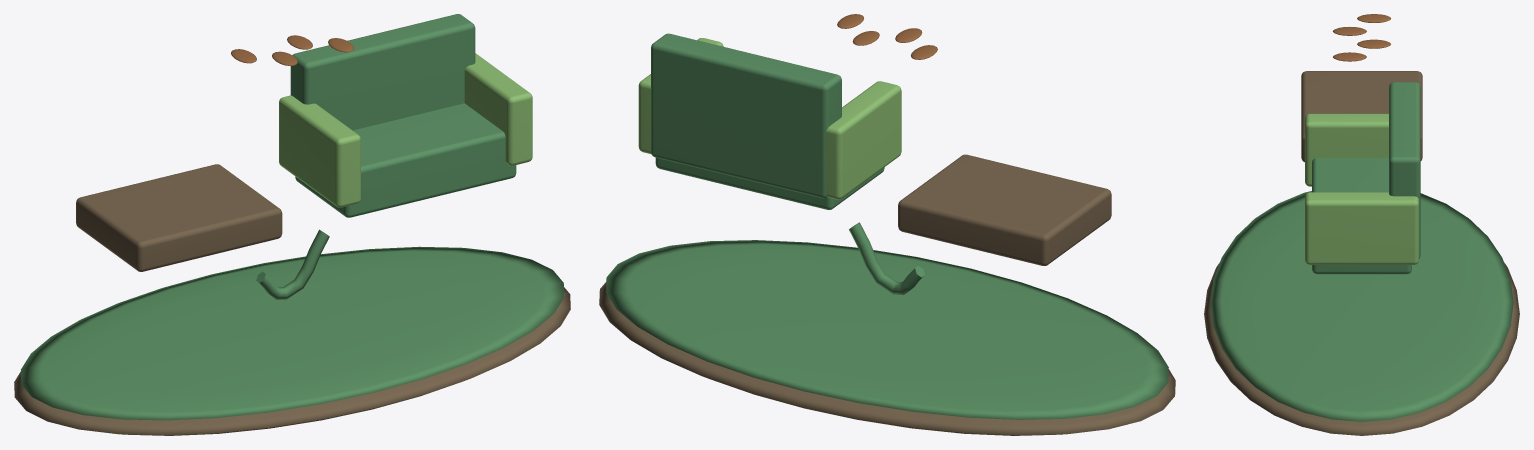
File: complete-first-manner-ground-bench.glb
3 views of the same model, side by side, from view 1: azimuth 30°, elevation 25°; view 2: azimuth 150°, elevation 25°; view 3: azimuth 270°, elevation 25° (orthographic). The views are drawn at different scales.
Parts seen in each view (by area): view 1: complete-first-manner-ground-bench_surface_01, complete-first-manner-ground-bench_surface_00, complete-first-manner-ground-bench_surface_02, complete-first-manner-ground-bench_surface_03; view 2: complete-first-manner-ground-bench_surface_01, complete-first-manner-ground-bench_surface_00, complete-first-manner-ground-bench_surface_02, complete-first-manner-ground-bench_surface_03; view 3: complete-first-manner-ground-bench_surface_01, complete-first-manner-ground-bench_surface_02, complete-first-manner-ground-bench_surface_00, complete-first-manner-ground-bench_surface_03.
Boxes of the visible parts, x1,y1,x2,y2 form: complete-first-manner-ground-bench_surface_01: (21,14,563,420); complete-first-manner-ground-bench_surface_00: (14,164,570,435); complete-first-manner-ground-bench_surface_02: (279,53,532,207); complete-first-manner-ground-bench_surface_03: (231,35,353,65); complete-first-manner-ground-bench_surface_01: (606,33,1168,419); complete-first-manner-ground-bench_surface_00: (599,154,1175,435); complete-first-manner-ground-bench_surface_02: (638,38,901,199); complete-first-manner-ground-bench_surface_03: (837,14,937,59); complete-first-manner-ground-bench_surface_01: (1210,82,1513,421); complete-first-manner-ground-bench_surface_02: (1305,113,1418,264); complete-first-manner-ground-bench_surface_00: (1204,71,1519,435); complete-first-manner-ground-bench_surface_03: (1333,14,1390,61).
Size of the model in its own units: 4.56 by 2.56 by 2.5.
